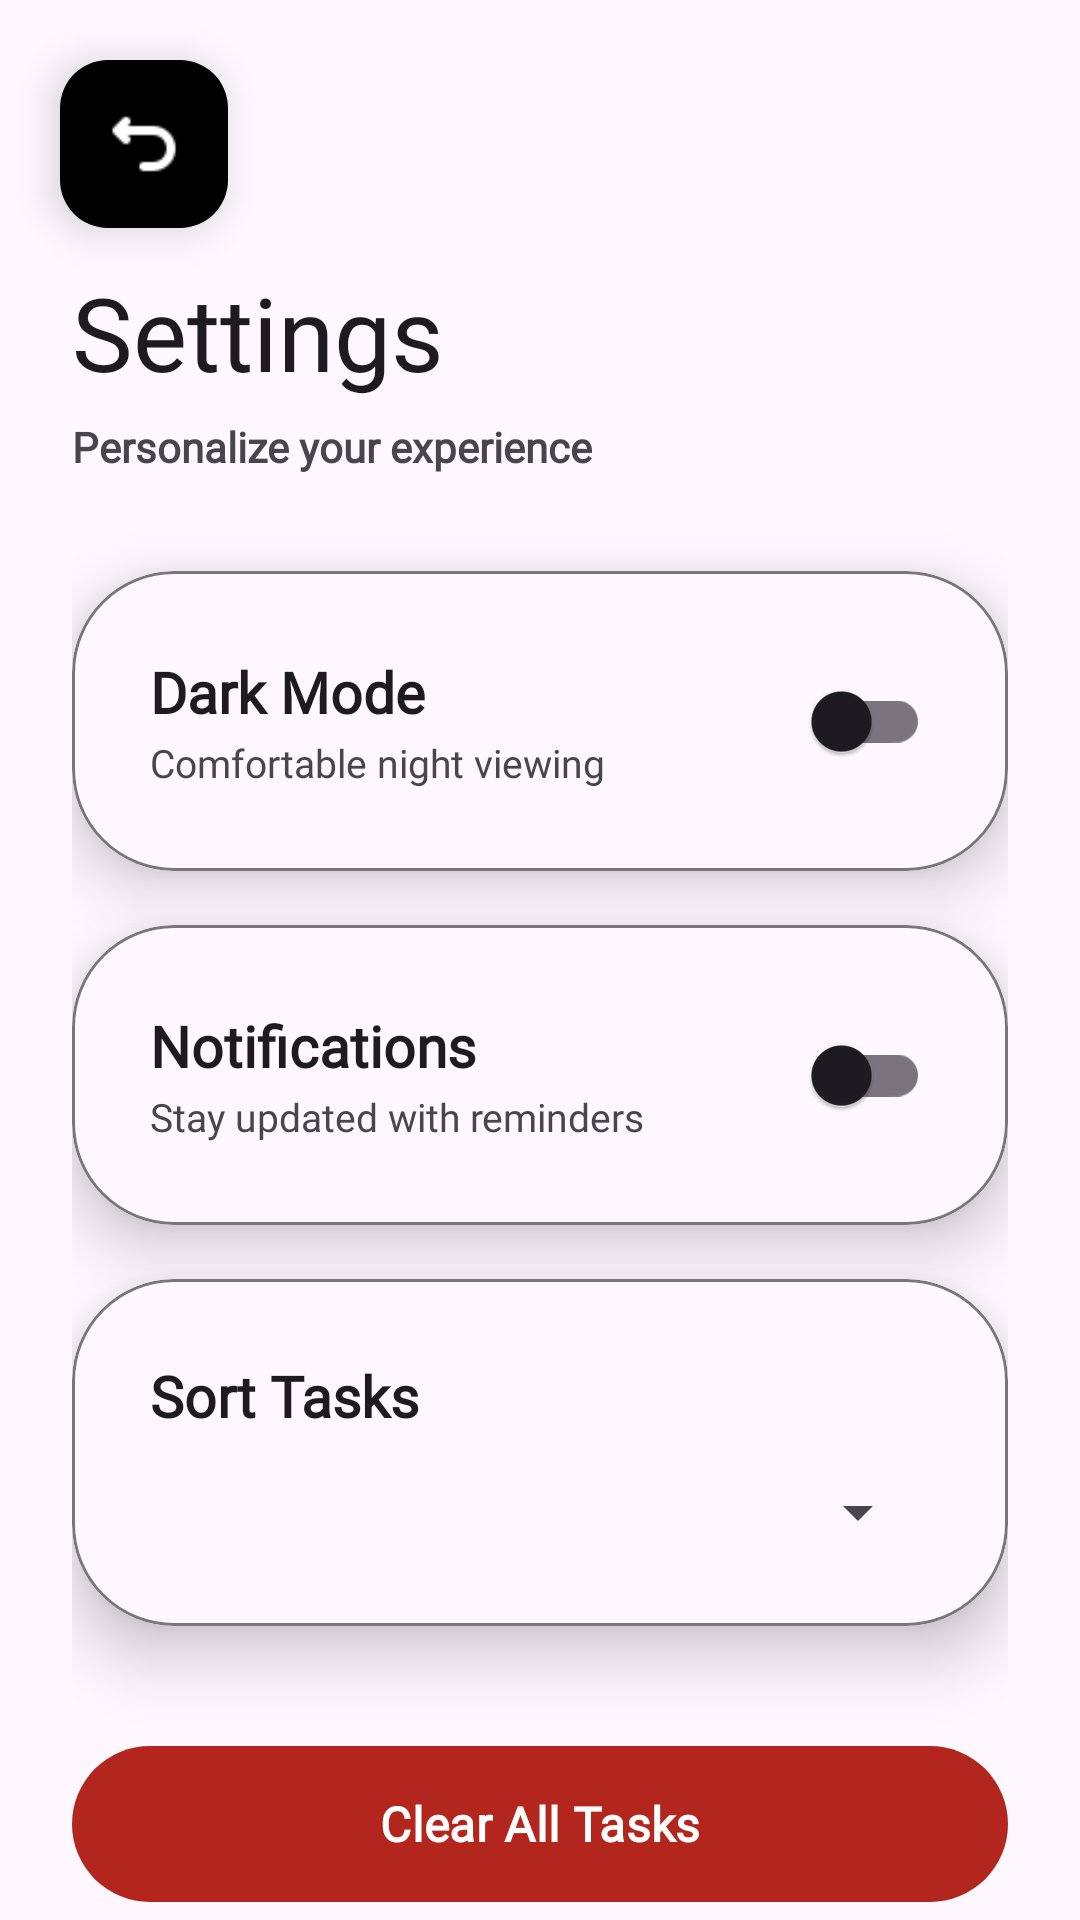

Icon bounding boxes for this 1080*1920 phone screenshot, format rect(x1, y1, x2, y2):
back: rect(60, 60, 228, 228)
